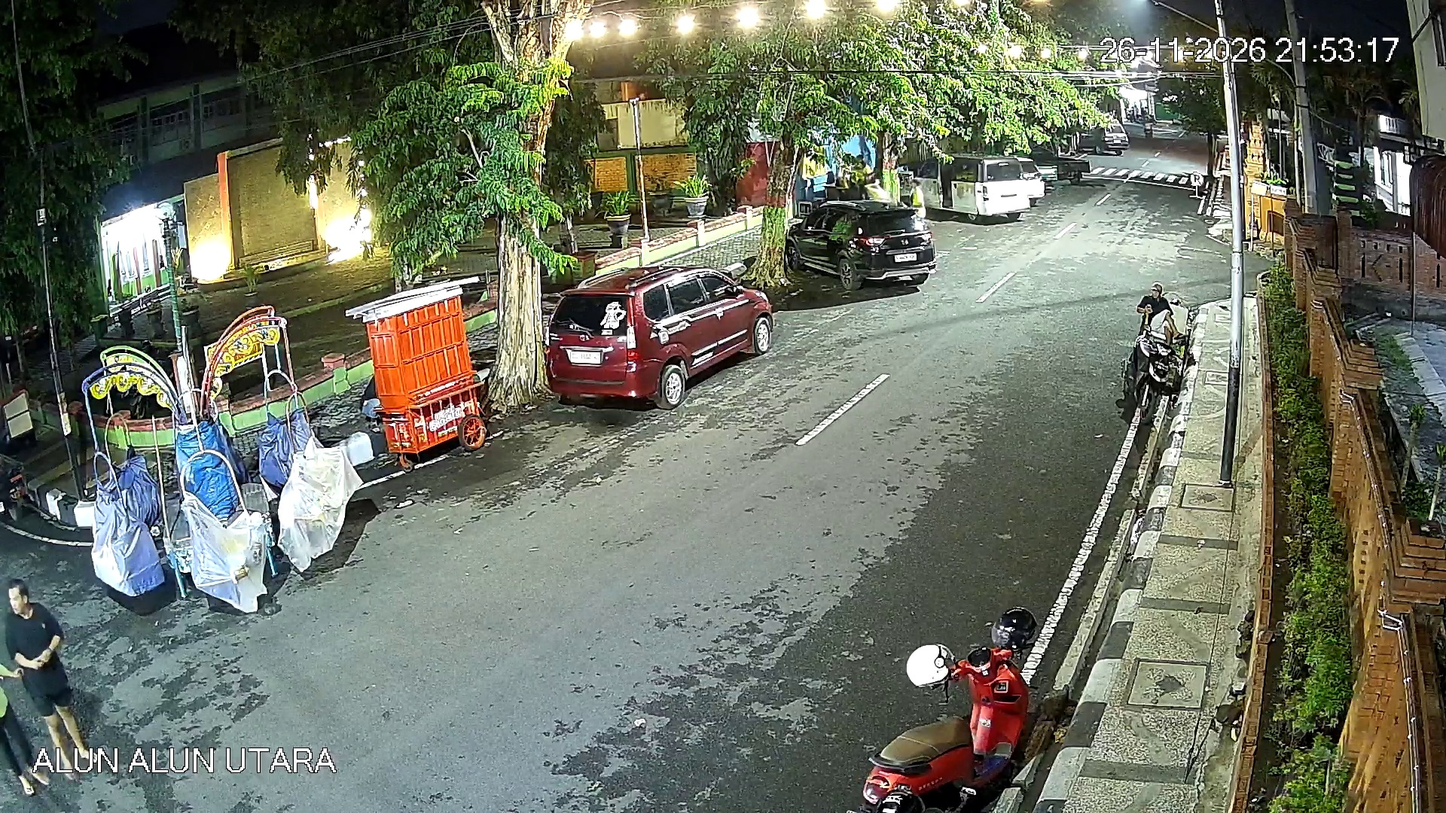Gerobak: (346, 276, 495, 467)
